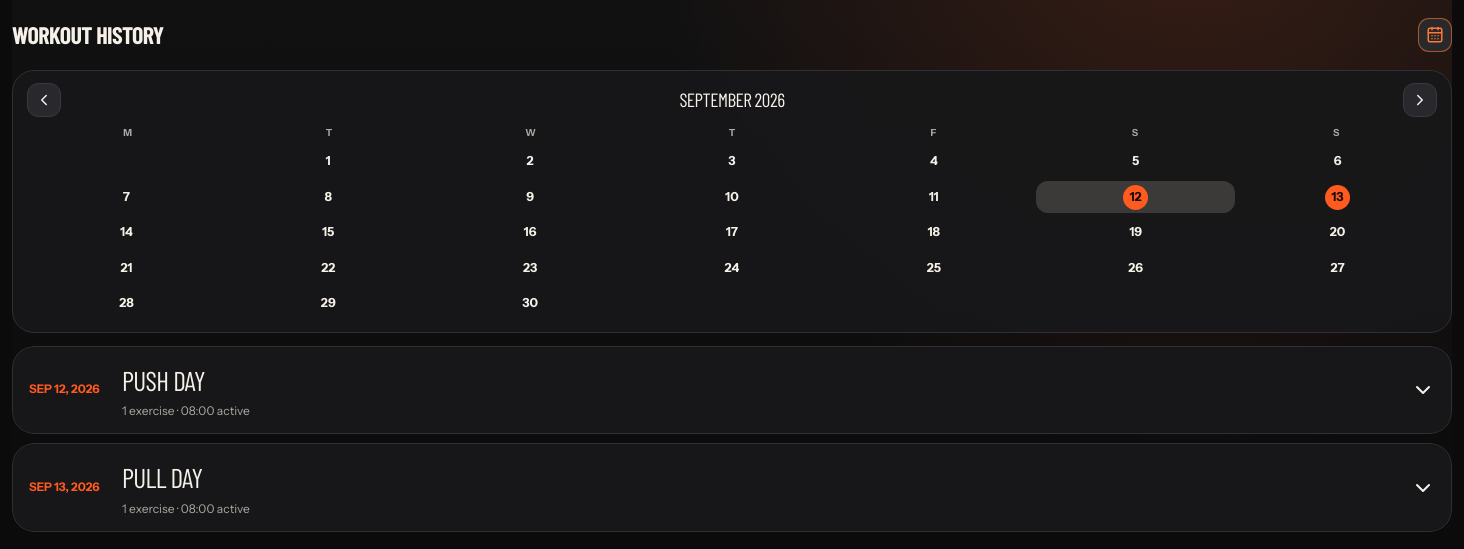
Scenario: HistoryScreen › shows exercise count and active time, then filters records by selected calendar day
The width and height of the screenshot is (1464, 549).
expect the text "1 exercise · 08:00 active" is shown 2 times: met, box [122, 403, 250, 418]; [122, 501, 250, 516]
Click the button named "Saturday, September 12, 2026, workout recorded" at (1136, 197), box [1036, 181, 1235, 213]
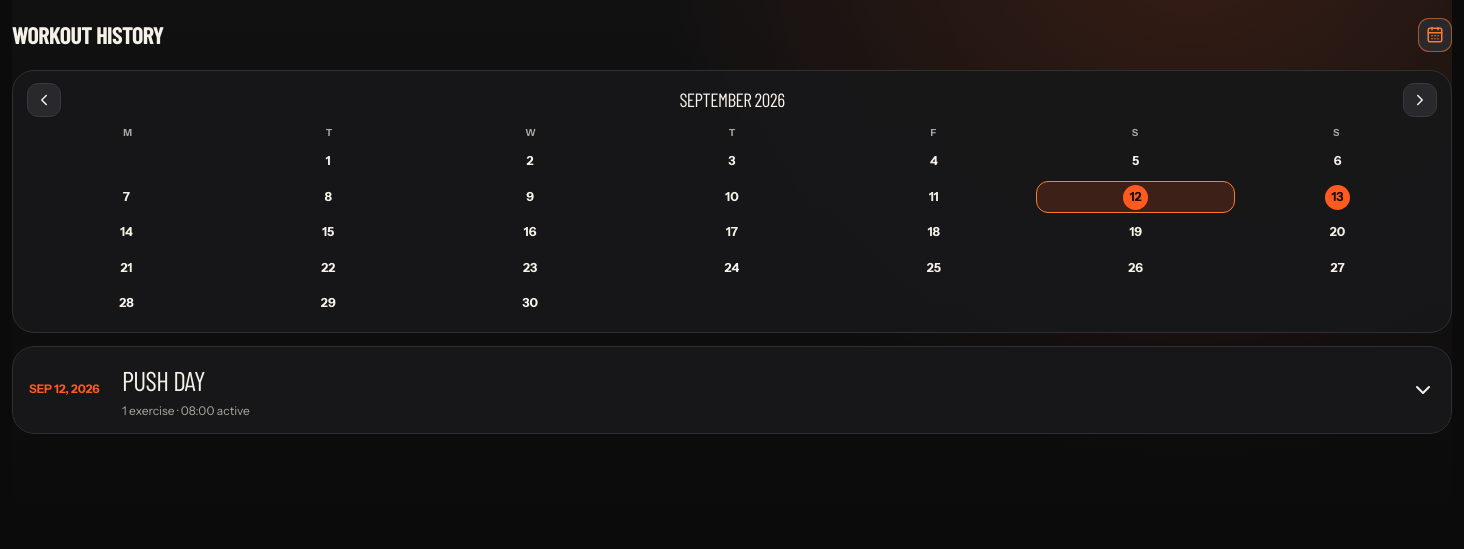
expect the heading "Push day" is shown: met, box [122, 364, 205, 396]
expect the button "Pull day" is gone: met
Click the button named "Saturday, September 12, 2026, workout recorded" at (1136, 197), box [1036, 181, 1235, 213]
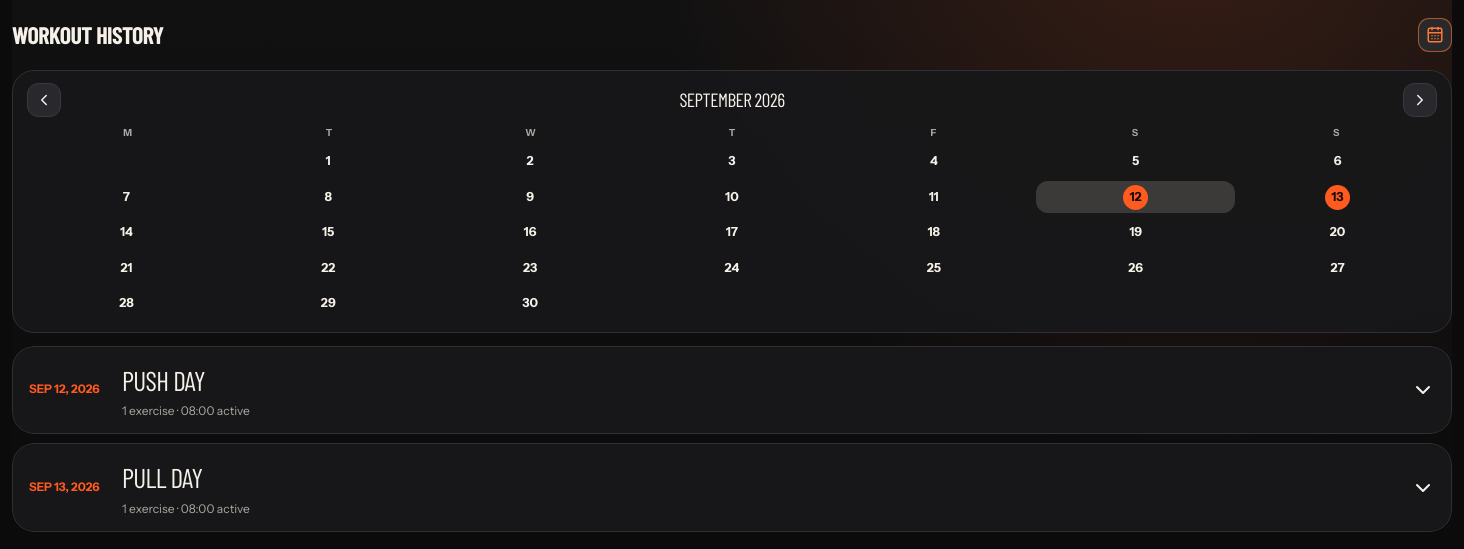
expect the heading "Pull day" is shown: met, box [122, 461, 202, 493]
